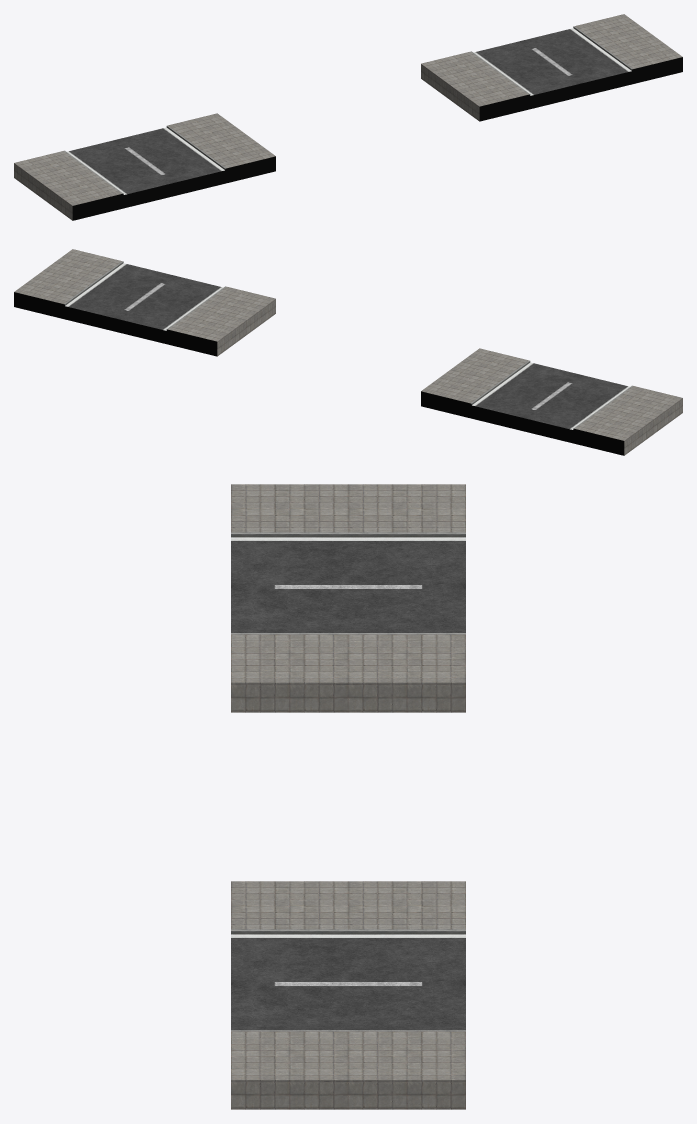
The model's file is doubleStraightShort2_high.fbx.
3 renders of one model, top to bottom at view 1: azimuth 30°, elevation 25°; view 2: azimuth 150°, elevation 25°; view 3: azimuth 270°, elevation 25°, orthographic. The views are drawn at different scales.
Visible parts, largest first — view 1: materialC150, materialA150, materialB150, materialD150; view 2: materialC150, materialA150, materialB150, materialD150; view 3: materialC150, materialA150, materialD150, materialE150.
Part boxes in pixels (x1=…): materialC150: x1=14, y1=14, x2=682, y2=220; materialA150: x1=67, y1=28, x2=631, y2=194; materialB150: x1=72, y1=57, x2=682, y2=220; materialD150: x1=64, y1=26, x2=632, y2=193; materialC150: x1=14, y1=249, x2=682, y2=455; materialA150: x1=65, y1=263, x2=629, y2=429; materialB150: x1=14, y1=292, x2=624, y2=455; materialD150: x1=64, y1=261, x2=632, y2=428; materialC150: x1=231, y1=484, x2=465, y2=1109; materialA150: x1=231, y1=537, x2=465, y2=1030; materialD150: x1=231, y1=532, x2=465, y2=1031; materialE150: x1=231, y1=534, x2=465, y2=934.
Bounding box in the file's own units: 76.8 × 1.8 × 12.8.
